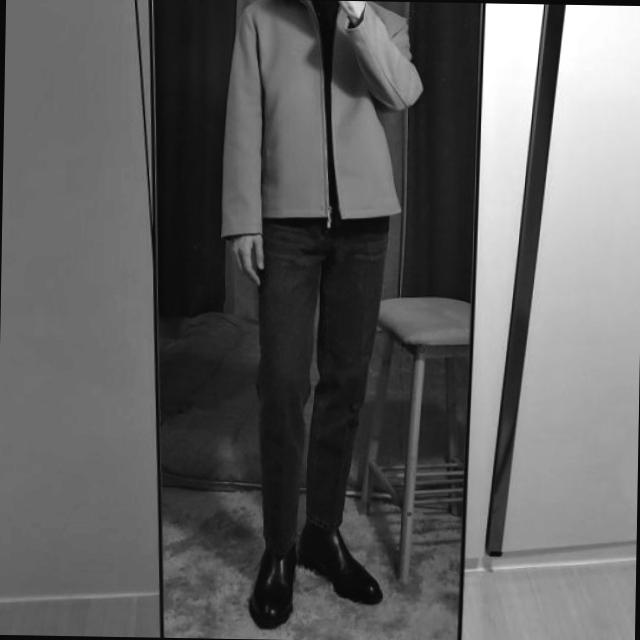denimpants: (251, 217, 390, 552)
jacket: (220, 0, 424, 238)
